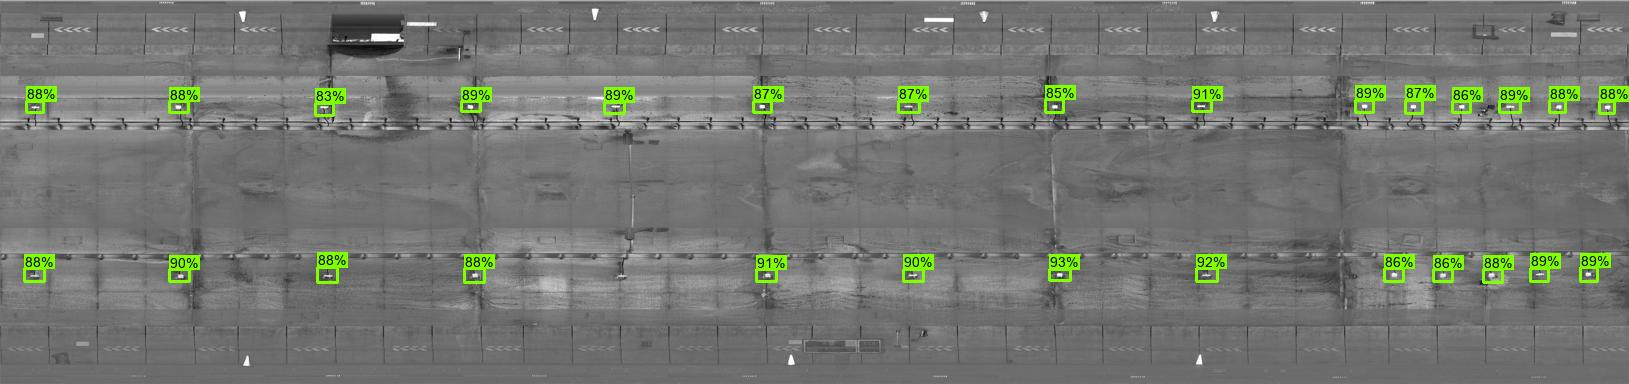light: (1431, 268, 1459, 284), (464, 268, 486, 285), (901, 269, 924, 285), (1354, 98, 1376, 114), (1596, 100, 1618, 116), (1481, 269, 1505, 283), (1384, 270, 1409, 283), (606, 100, 627, 114), (609, 271, 634, 283), (758, 269, 778, 284), (26, 270, 47, 284), (169, 100, 190, 114), (461, 100, 482, 114), (1577, 269, 1601, 281), (1526, 269, 1550, 281), (172, 269, 190, 285), (24, 100, 44, 114), (317, 269, 337, 283), (1189, 99, 1211, 111), (1404, 100, 1424, 113), (316, 101, 333, 116), (898, 101, 919, 113), (1501, 102, 1521, 115), (1051, 269, 1069, 283), (1196, 270, 1216, 282), (755, 99, 770, 114), (1551, 102, 1569, 114), (1048, 100, 1065, 112), (1452, 103, 1471, 113)
